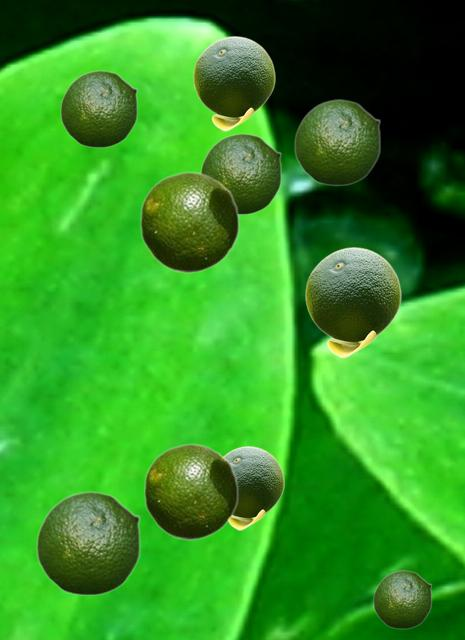calamansi: (36, 491, 140, 595), (305, 247, 400, 357), (139, 171, 239, 272), (143, 443, 238, 539), (193, 36, 274, 130), (294, 99, 380, 185), (200, 133, 281, 214), (60, 70, 137, 147), (224, 446, 283, 529), (373, 570, 431, 628)
